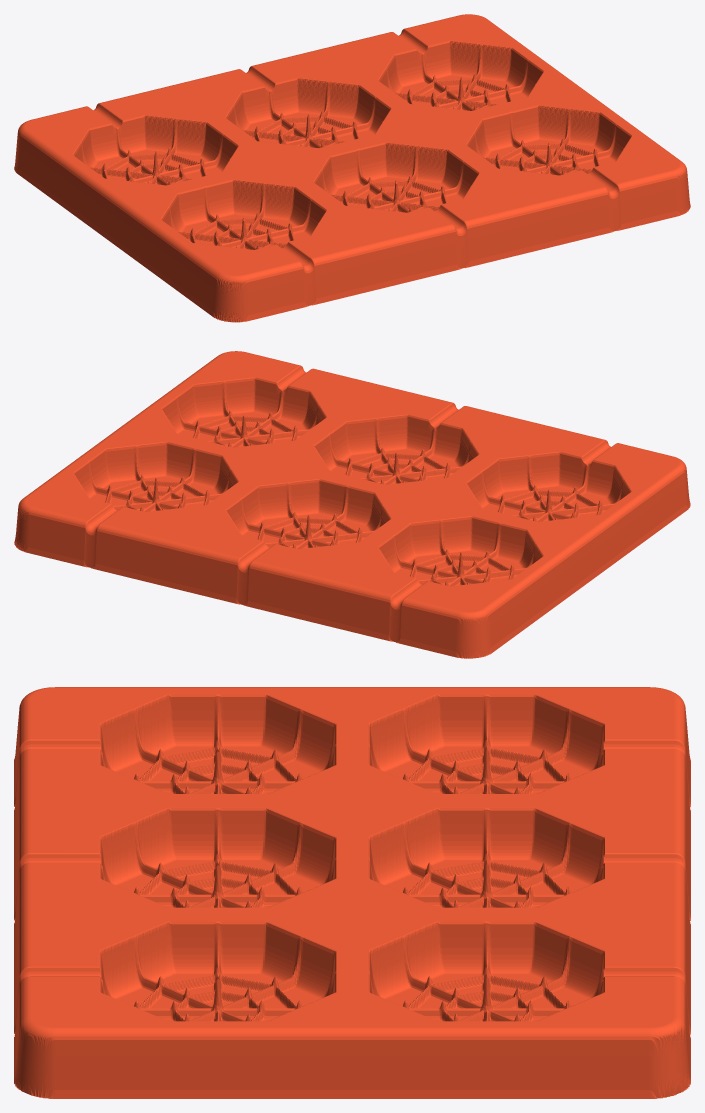
File: mold.glb
The picture shows the model from 3 angles, top to bottom: view 1: azimuth 30°, elevation 25°; view 2: azimuth 150°, elevation 25°; view 3: azimuth 270°, elevation 25°; orthographic projection. The views are drawn at different scales.
Parts seen in each view (by area): view 1: geometry_0; view 2: geometry_0; view 3: geometry_0.
Part boxes in pixels (bbox=[...]): geometry_0: bbox=[14, 14, 690, 322]; geometry_0: bbox=[14, 351, 690, 658]; geometry_0: bbox=[14, 687, 690, 1098].
Size of the model in its own units: 0.1824 by 0.0155 by 0.1477.
